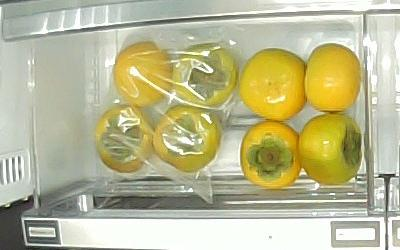persimmon: (238, 48, 305, 121), (297, 114, 362, 187), (238, 121, 299, 189), (305, 42, 361, 113)
persimmon_vinyl: (151, 107, 222, 172), (172, 43, 238, 108), (113, 41, 173, 109), (95, 105, 153, 173)
